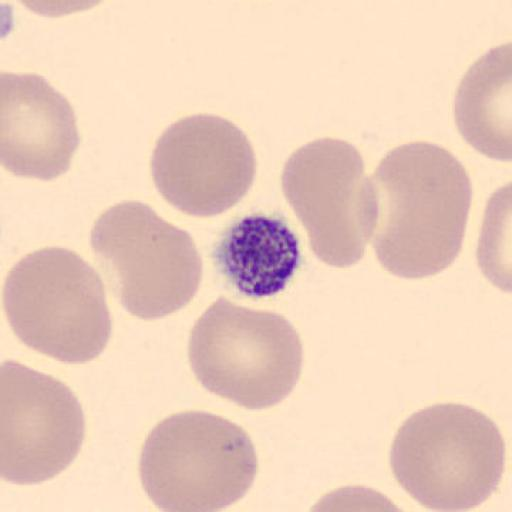Platelet: (209, 210, 304, 301)
RBC: (361, 138, 474, 281), (87, 197, 205, 321), (186, 296, 306, 412), (2, 244, 115, 365), (280, 136, 380, 272), (388, 399, 506, 512), (135, 407, 259, 512), (148, 111, 257, 219), (2, 360, 88, 486), (1, 69, 81, 182), (451, 40, 512, 164), (475, 178, 512, 296), (302, 482, 415, 512), (10, 0, 114, 20), (0, 0, 18, 48)
